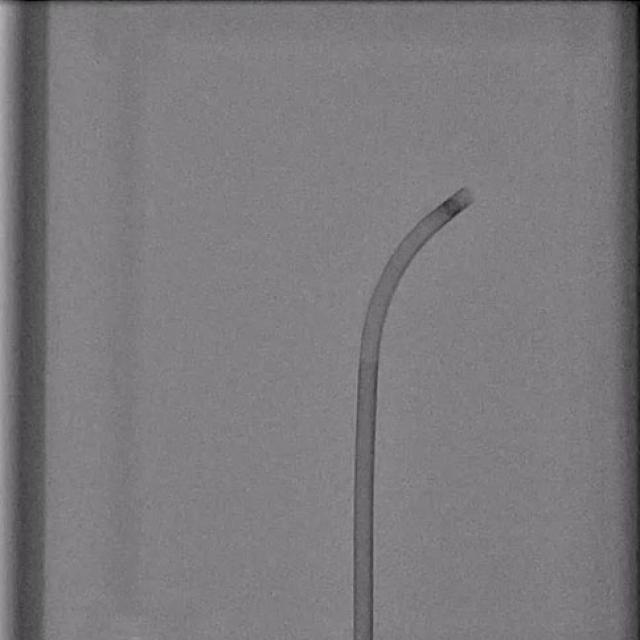bend: (358, 352, 381, 366)
entry: (354, 634, 371, 640)
marker: (442, 198, 462, 216)
tip: (461, 188, 476, 202)
